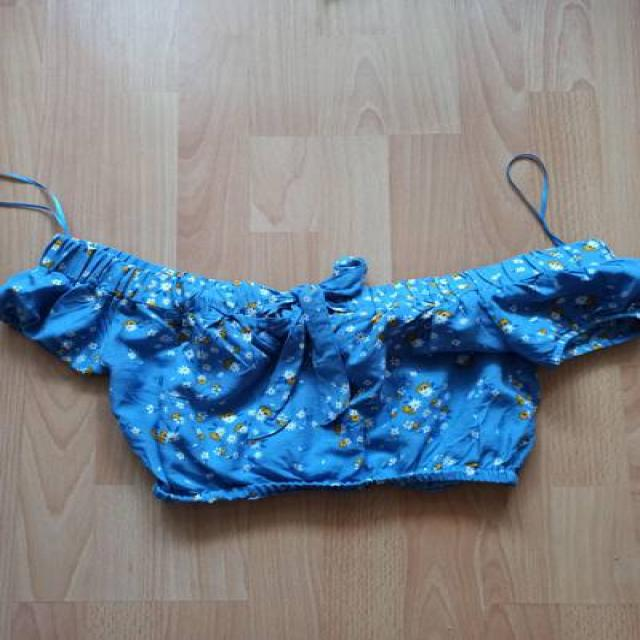Clothes -Biodegradable-: (0, 241, 640, 502)
